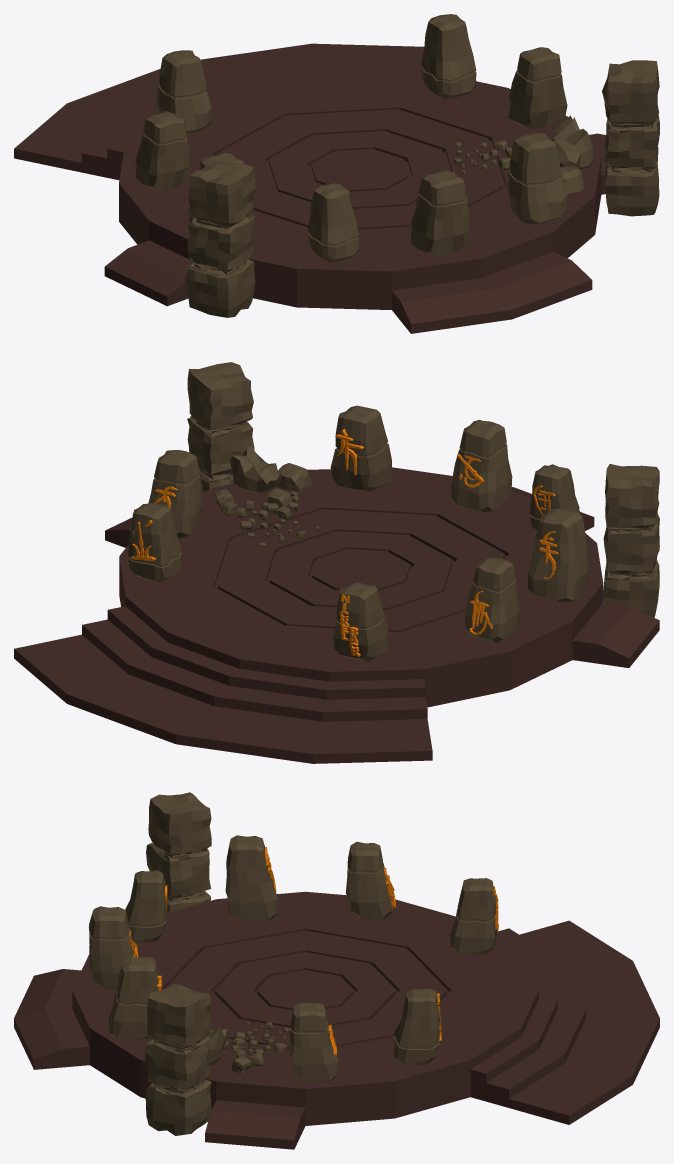
File: ritual_place_level_02.fbx
The picture shows the model from 3 angles, top to bottom: view 1: azimuth 30°, elevation 25°; view 2: azimuth 150°, elevation 25°; view 3: azimuth 270°, elevation 25°; orthographic projection. The views are drawn at different scales.
Visible parts, largest first — view 1: floor, pillars_inner, pillars_outer; view 2: floor, pillars_inner, pillars_outer; view 3: floor, pillars_inner, pillars_outer.
Part boxes in pixels (x1,y1,x2,y2): floor: (14, 43, 606, 333); pillars_inner: (135, 14, 593, 262); pillars_outer: (185, 60, 659, 317); floor: (14, 467, 659, 763); pillars_inner: (128, 405, 588, 661); pillars_outer: (187, 362, 659, 617); floor: (14, 891, 659, 1149); pillars_inner: (88, 835, 498, 1082); pillars_outer: (145, 792, 211, 1135).
Bounding box in the file's own units: 59.89 × 15.05 × 66.87.
